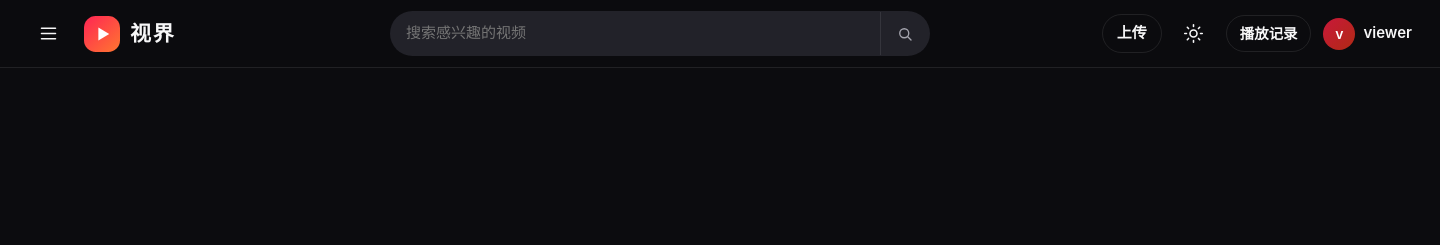
it: AppHeader watch history dropdown › keeps recent watch history cached until the refresh cooldown finishes
Hover over the element with class "app-header__history": (1269, 38) [1226,15,1312,62]
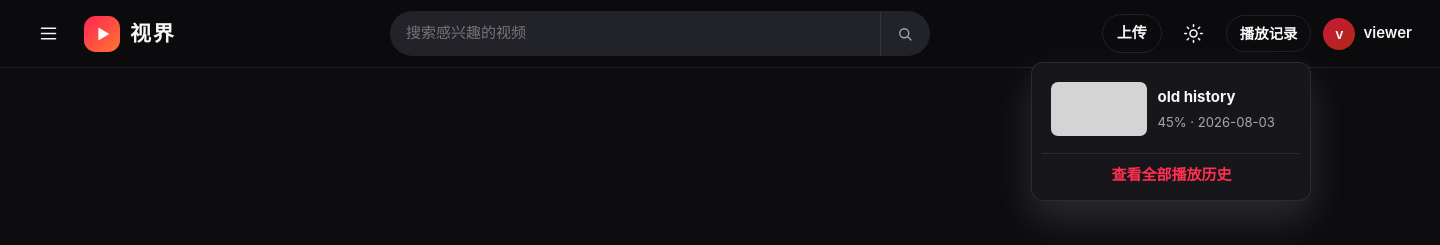
Result: the text "old history" is shown at [1157,87,1235,106]
Move the pointer off the element with class "app-header__history", box [1226,15,1312,62]
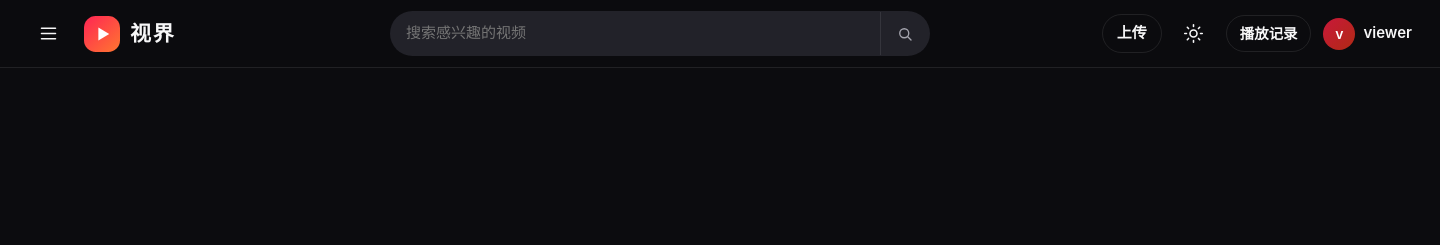
Hover over the element with class "app-header__history": (1269, 38) [1226,15,1312,62]
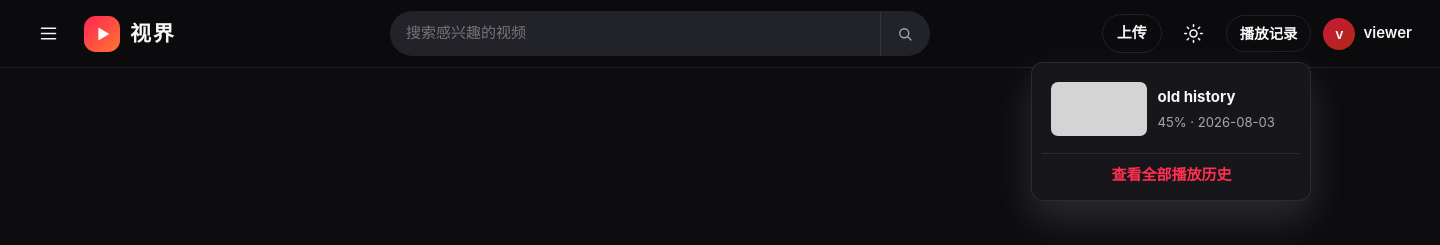
Result: the text "old history" is shown at [1157,87,1235,106]
Move the pointer off the element with class "app-header__history", box [1226,15,1312,62]
Wait 30000 ms
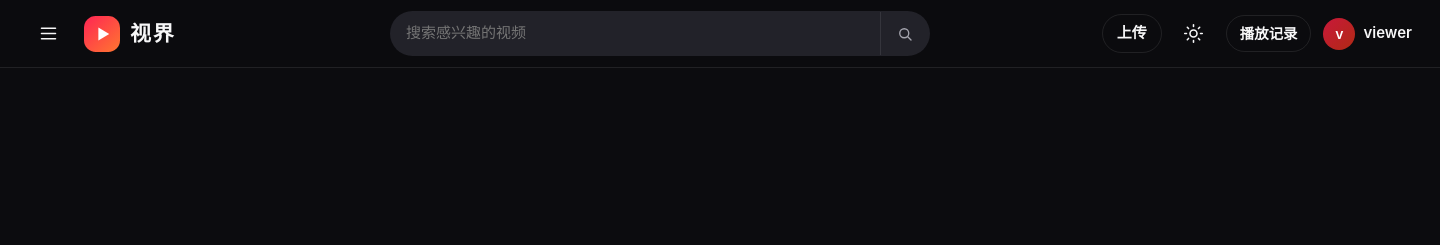
Hover over the element with class "app-header__history": (1269, 38) [1226,15,1312,62]
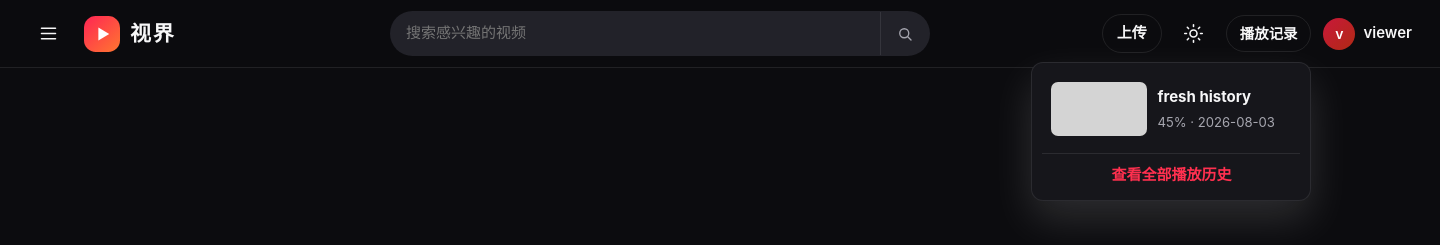
Expected: the text "old history" is not shown
Result: the text "fresh history" is shown at [1157,87,1251,106]
